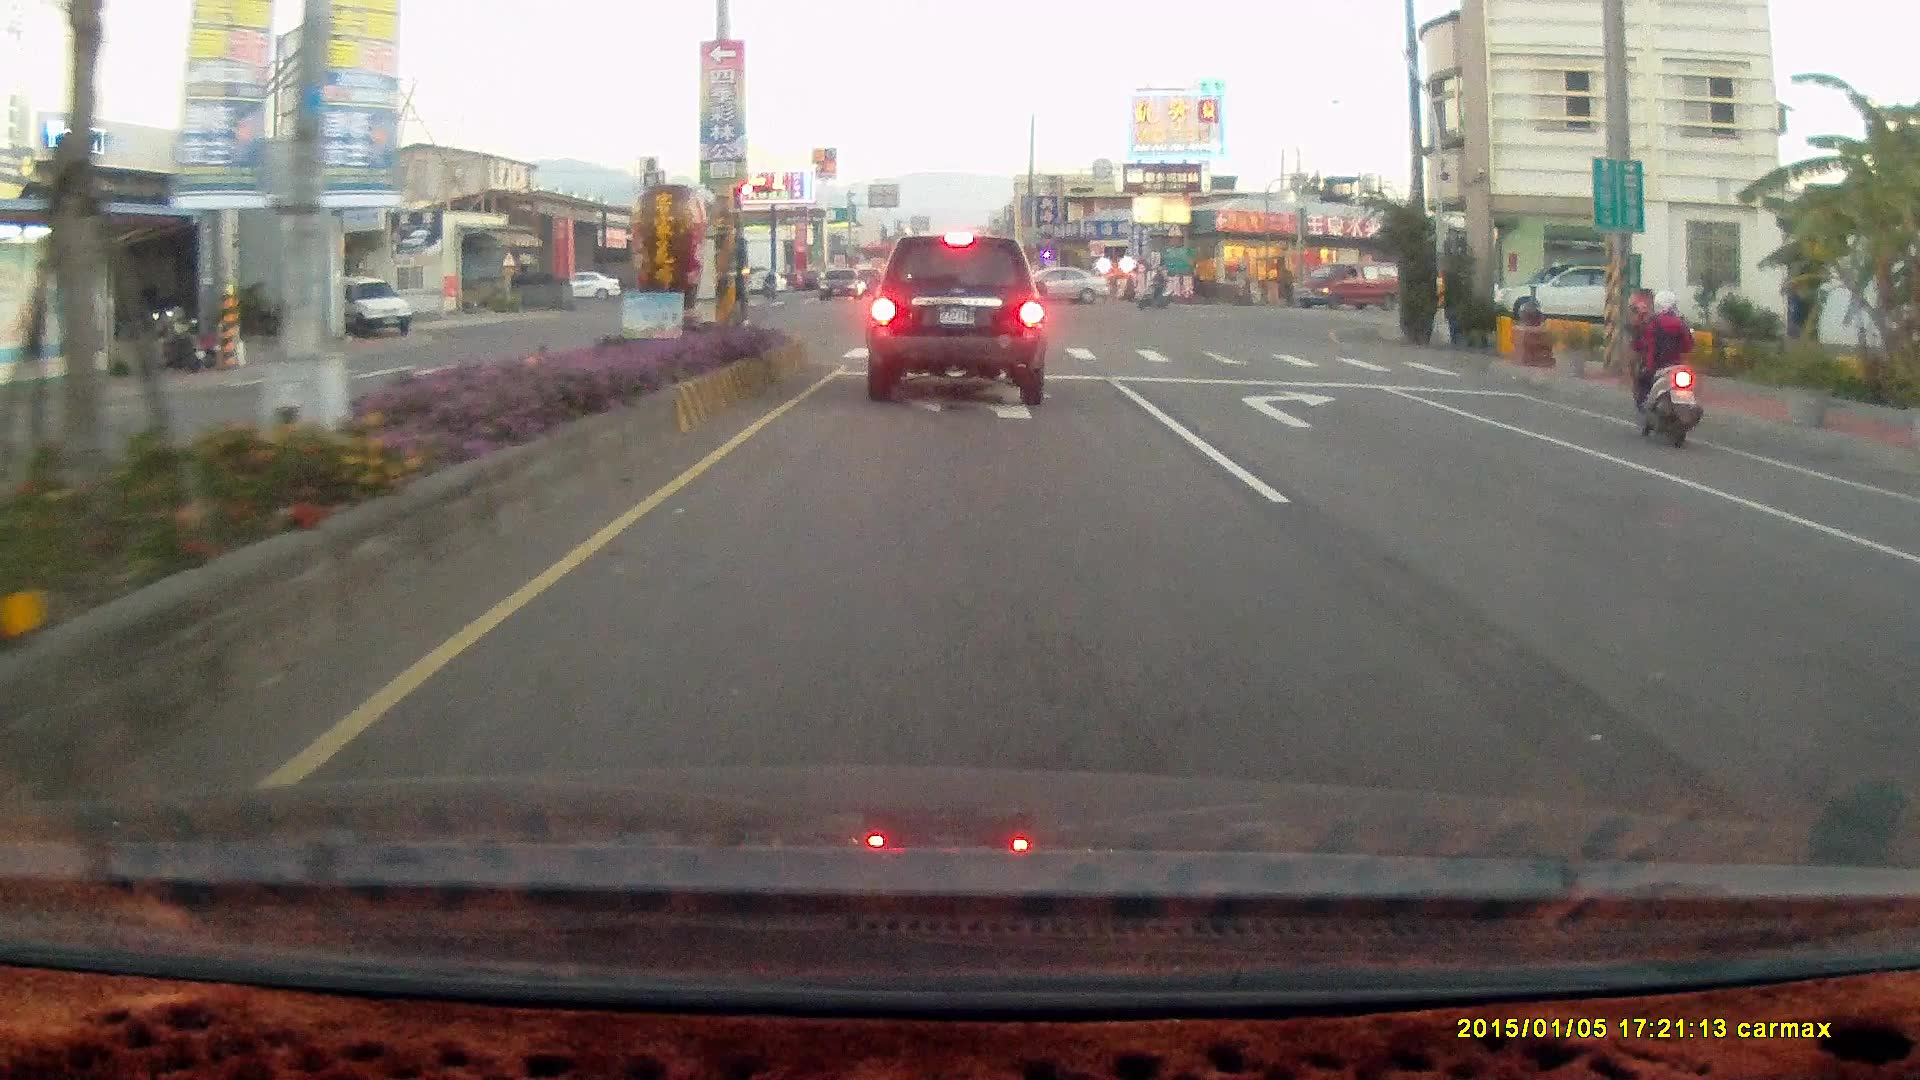rider: (1627, 287, 1703, 451), (1135, 269, 1171, 311)
vehicle: (864, 232, 1048, 404), (1492, 260, 1646, 327), (1493, 264, 1617, 330), (1896, 493, 1920, 836), (1883, 528, 1920, 690), (332, 277, 416, 340), (1294, 262, 1402, 310), (1001, 266, 1111, 310), (1001, 264, 1108, 306), (1299, 268, 1392, 314)
